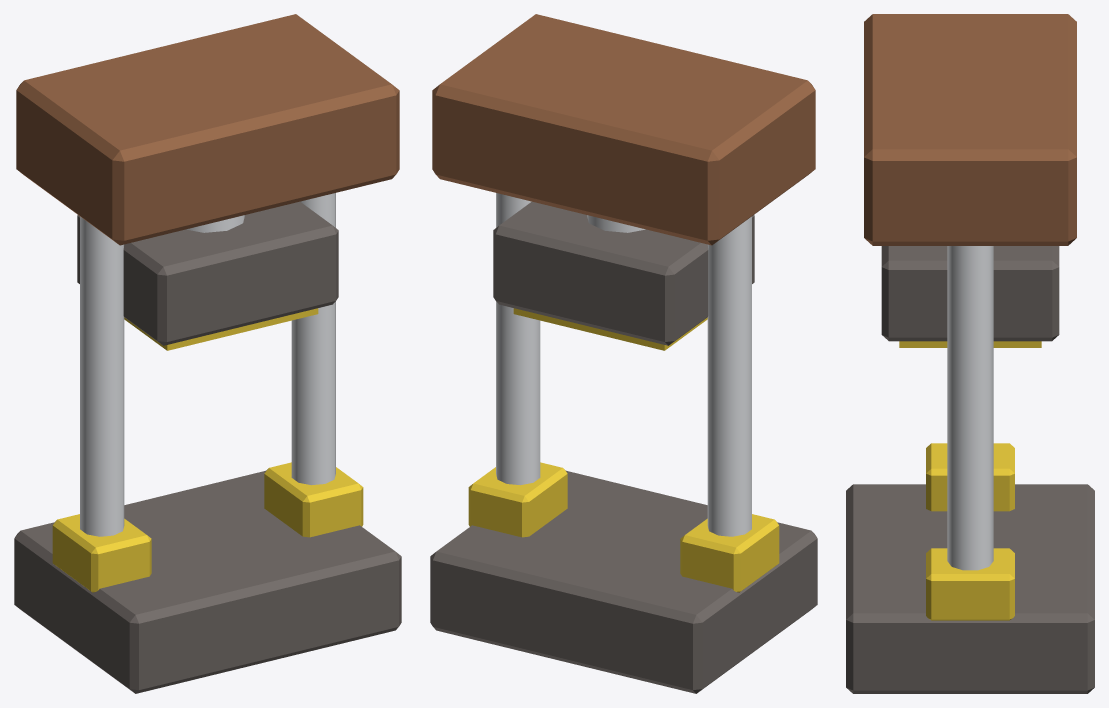
The model's file is wk_press.glb.
3 renders of one model, left to right at view 1: azimuth 30°, elevation 25°; view 2: azimuth 150°, elevation 25°; view 3: azimuth 270°, elevation 25°, orthographic.
Parts seen in each view (by area): view 1: wk_press, ram; view 2: wk_press, ram; view 3: wk_press, ram.
Part boxes in pixels (x1,y1,x2,y2): wk_press: [14, 14, 401, 693]; ram: [77, 201, 338, 350]; wk_press: [430, 14, 817, 693]; ram: [493, 201, 754, 350]; wk_press: [846, 14, 1094, 693]; ram: [881, 246, 1059, 347].
Size of the model in its own units: 1.9 by 3.4 by 1.4.
